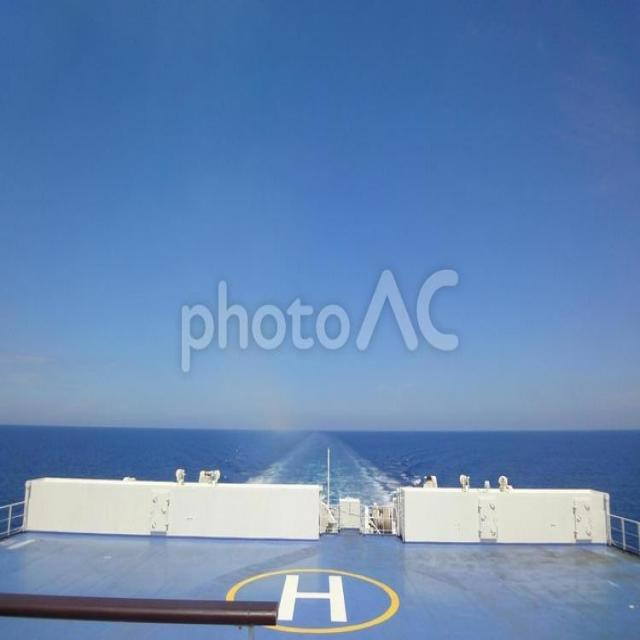helipad: (220, 559, 401, 636)
